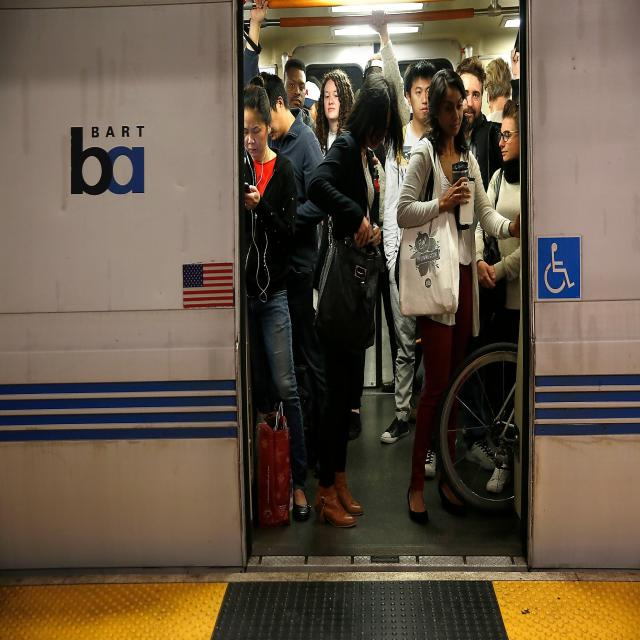body: (394, 66, 530, 529), (303, 69, 407, 533), (415, 46, 523, 482), (243, 83, 313, 523), (242, 0, 325, 369), (379, 61, 438, 444), (361, 9, 411, 394), (474, 99, 520, 494), (384, 126, 406, 332), (313, 68, 355, 159), (282, 57, 316, 133), (484, 54, 516, 122), (302, 84, 322, 126)
